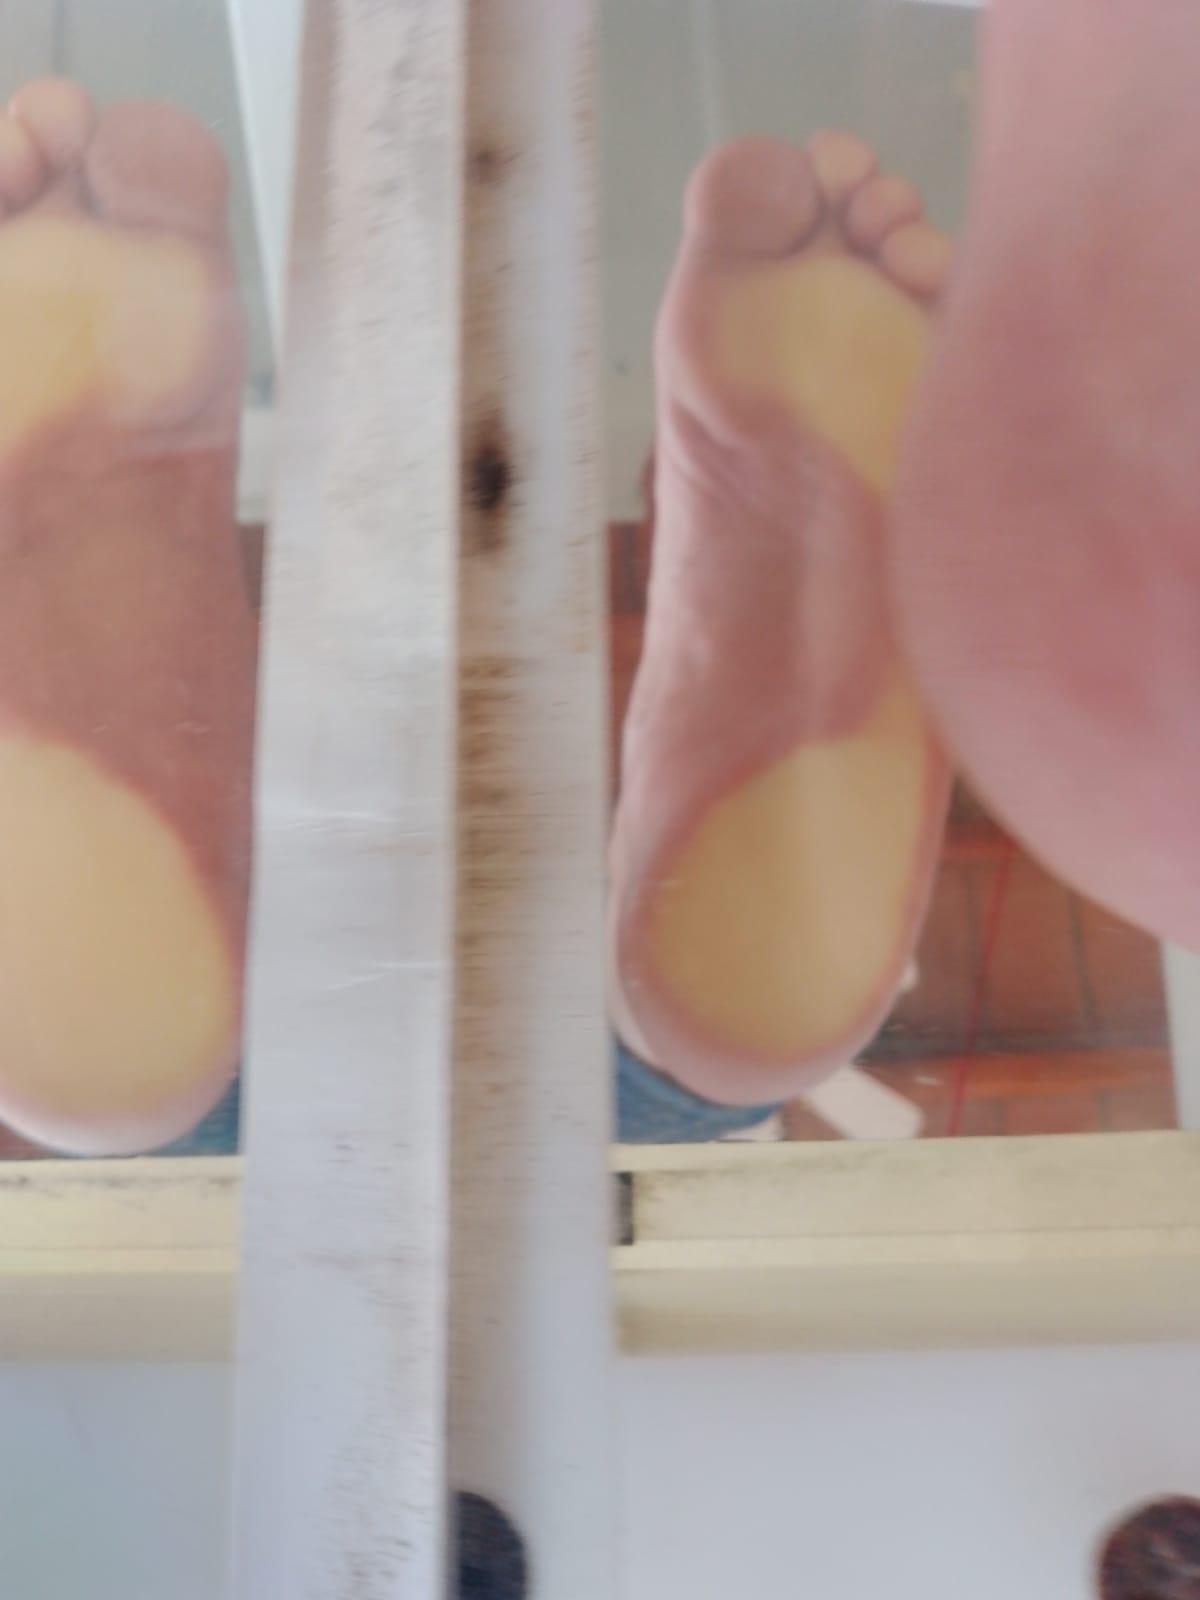Present: (635, 89, 979, 1095), (0, 66, 285, 1160)
